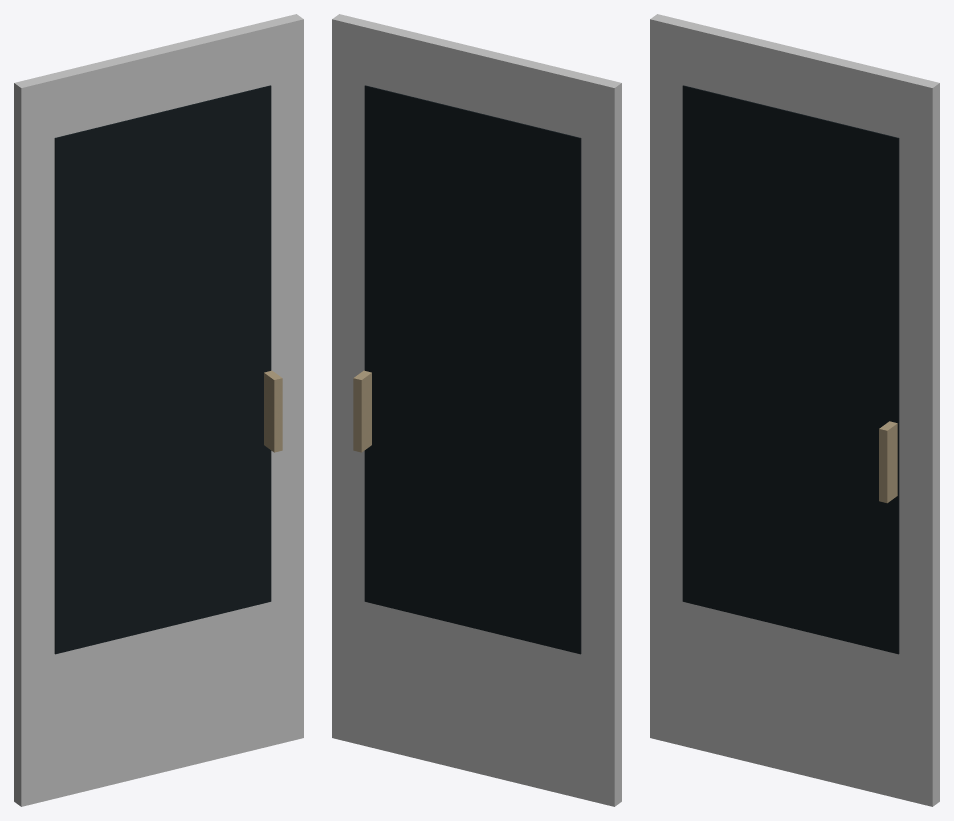
The model's file is OA_DoorLeaf_Single.fbx.
3 renders of one model, left to right at view 1: azimuth 30°, elevation 25°; view 2: azimuth 150°, elevation 25°; view 3: azimuth 330°, elevation 25°, orthographic.
Visible parts, largest first — view 1: OA_DoorLeaf_Single; view 2: OA_DoorLeaf_Single; view 3: OA_DoorLeaf_Single.
Boxes of the visible parts, <box> form: OA_DoorLeaf_Single: <box>14,14,303,806</box>; OA_DoorLeaf_Single: <box>332,14,621,806</box>; OA_DoorLeaf_Single: <box>650,14,939,806</box>.
Size of the model in its own units: 1.02 by 2.48 by 0.195.
